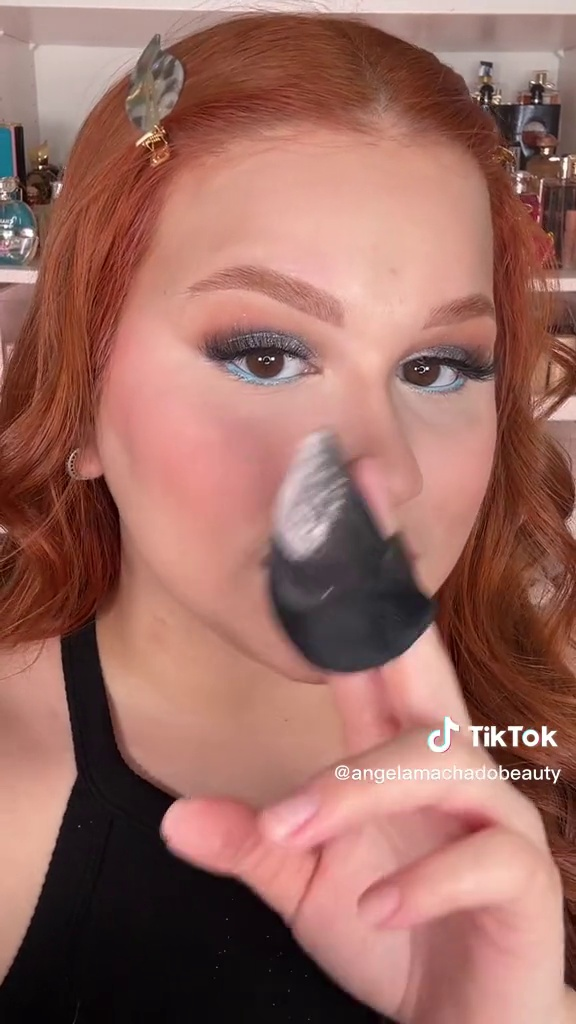train' :'yolo_data/train/images',: (250, 425, 436, 688)
